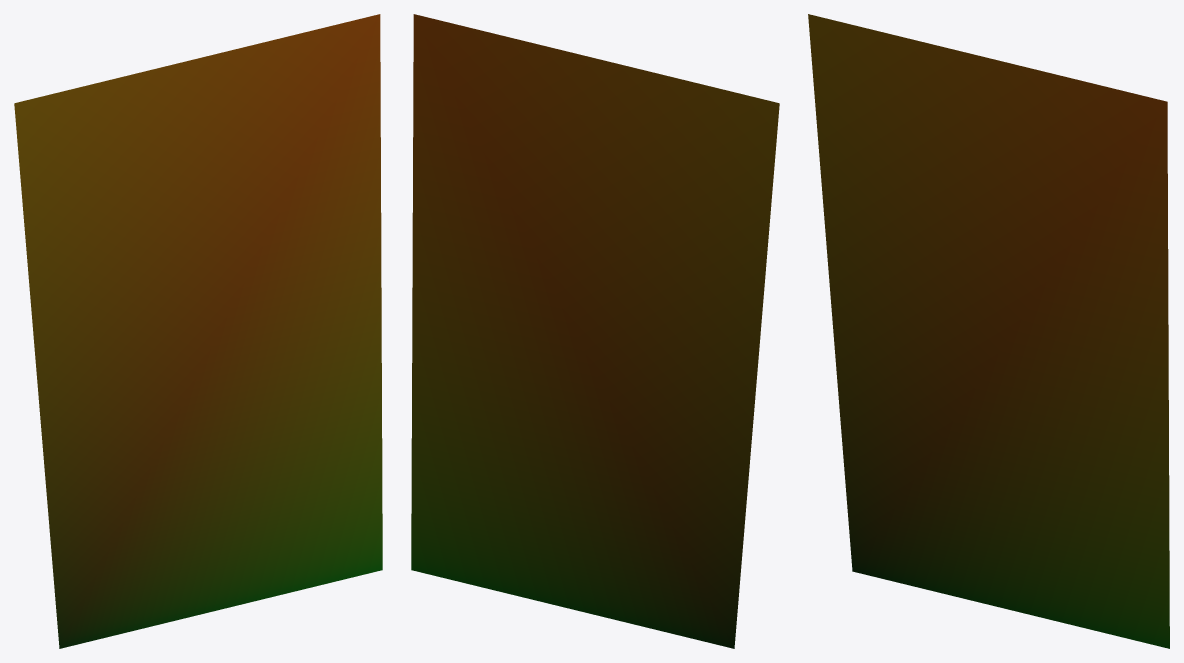
File: Var1_LOD3.fbx
3 renders of one model, left to right at view 1: azimuth 30°, elevation 25°; view 2: azimuth 150°, elevation 25°; view 3: azimuth 330°, elevation 25°, orthographic.
Parts seen in each view (by area): view 1: _7f5b_Var1_LOD3; view 2: _7f5b_Var1_LOD3; view 3: _7f5b_Var1_LOD3.
Part boxes in pixels (bbox=[...]): _7f5b_Var1_LOD3: bbox=[14, 14, 382, 648]; _7f5b_Var1_LOD3: bbox=[411, 14, 779, 648]; _7f5b_Var1_LOD3: bbox=[808, 14, 1169, 648].
Bounding box in the file's own units: 30.29 × 43.73 × 6.79e-06.
